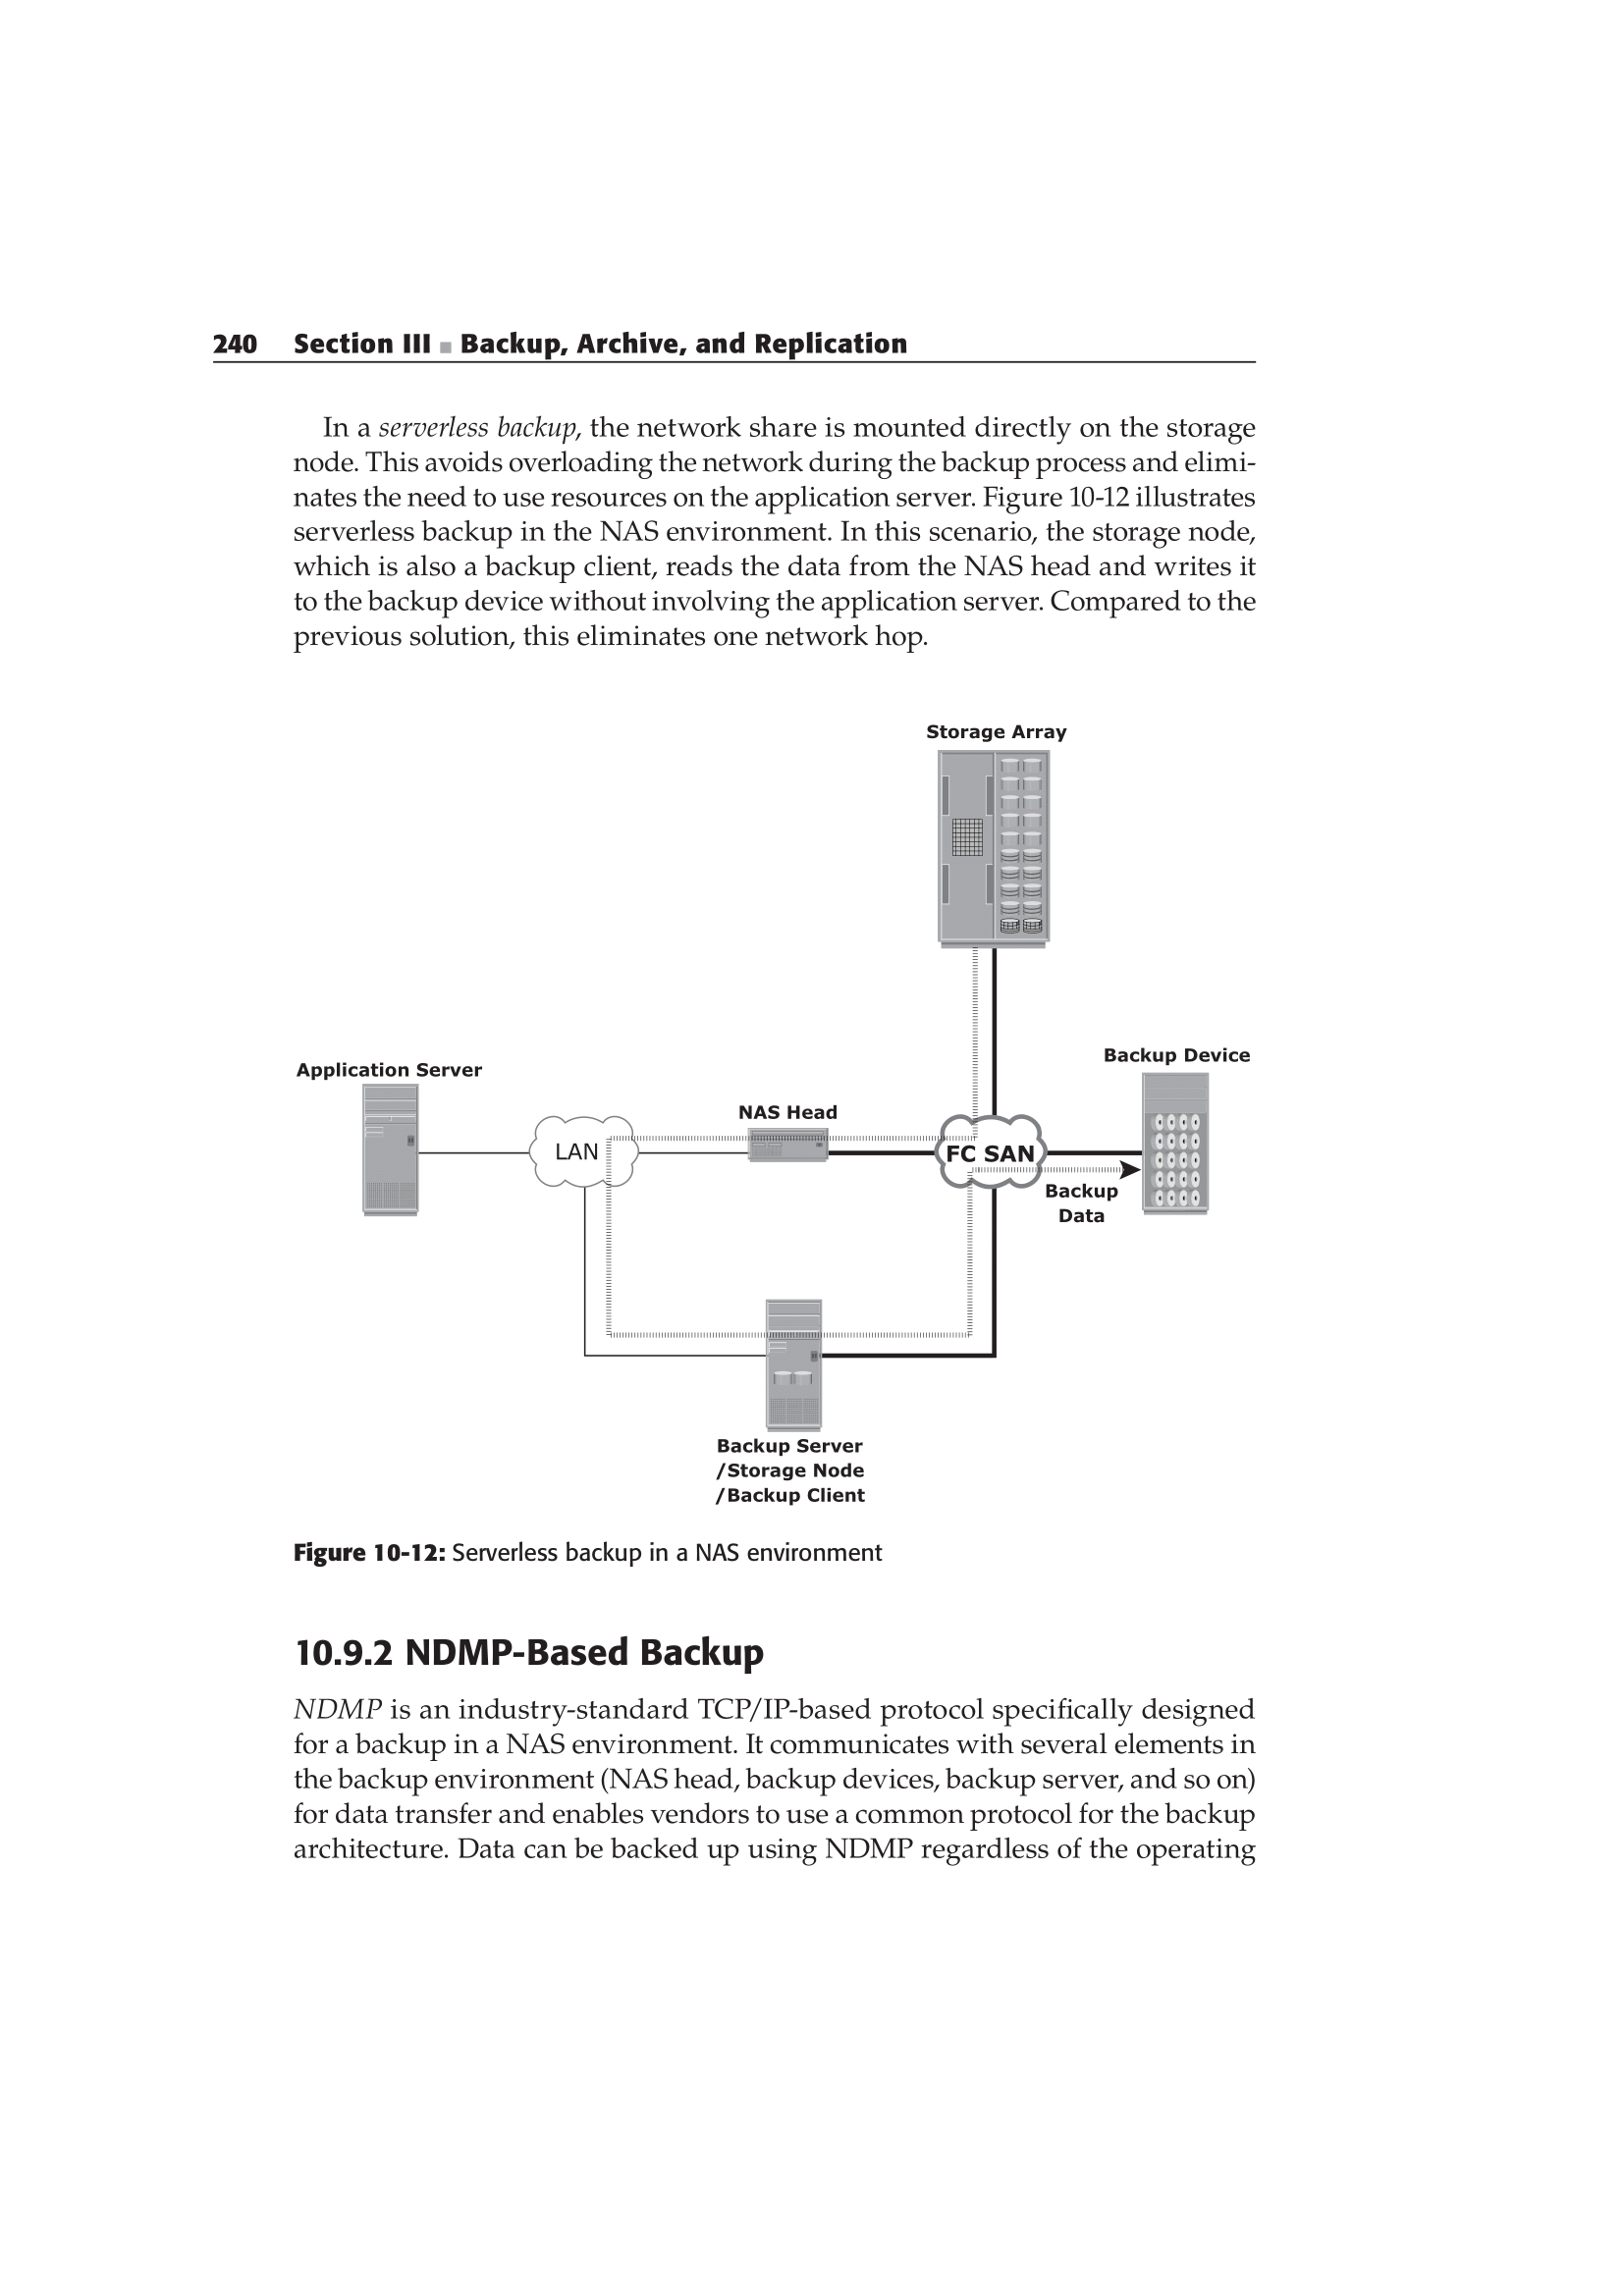Image: (63, 707, 1554, 1541)
Paragraph: (214, 1689, 1391, 1961), (202, 411, 1379, 658), (76, 256, 1158, 369), (218, 1638, 977, 1668)
